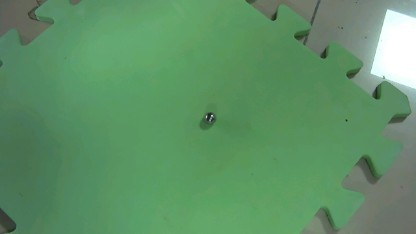ironball: (200, 110, 219, 130)
